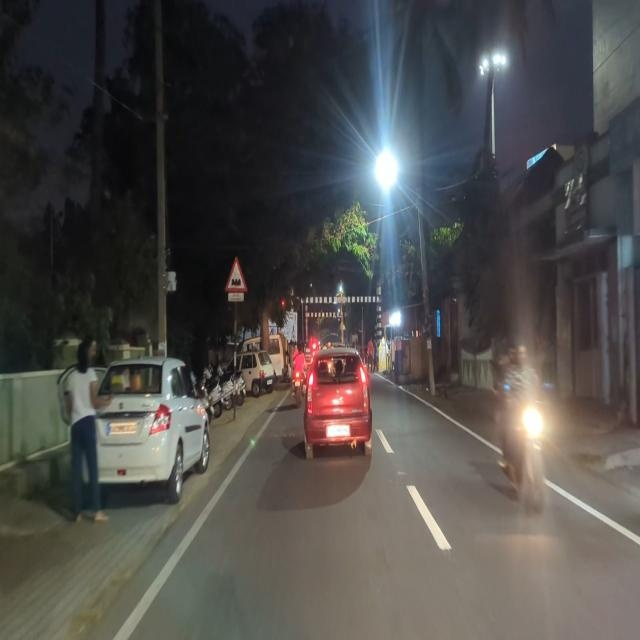bien_nguy_hiem: (224, 254, 248, 294)
